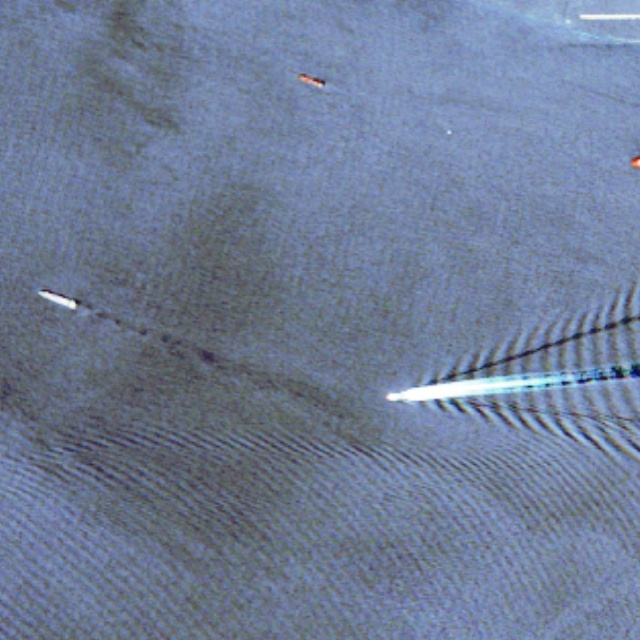wake: (378, 320, 630, 444)
